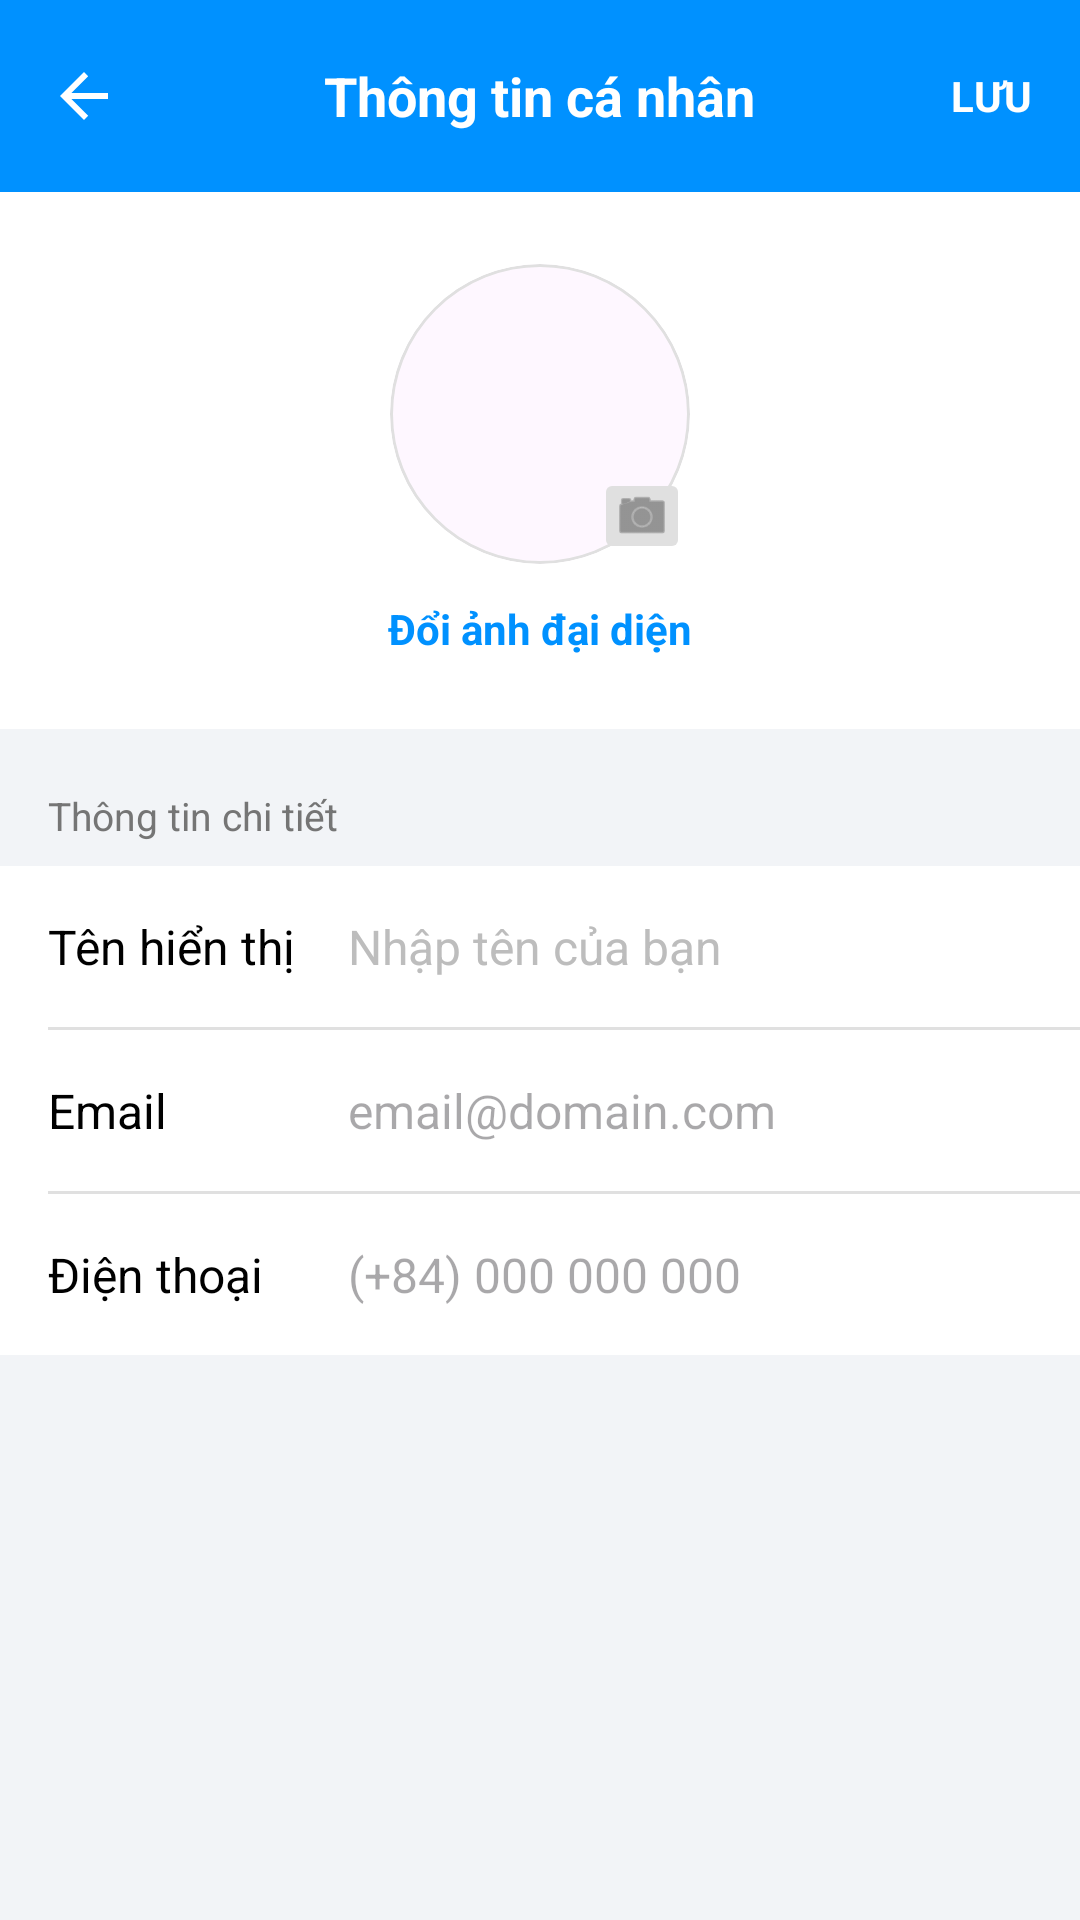

Named icons in this screenshot (1080x1920) and their bounding boxes, (x1, y1, x2, y2):
ab back: (60, 72, 108, 120)
camera: (594, 468, 679, 553)
